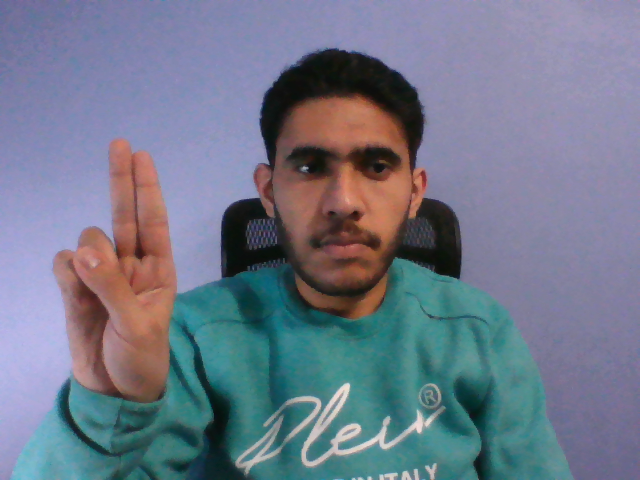U: (42, 129, 186, 415)
